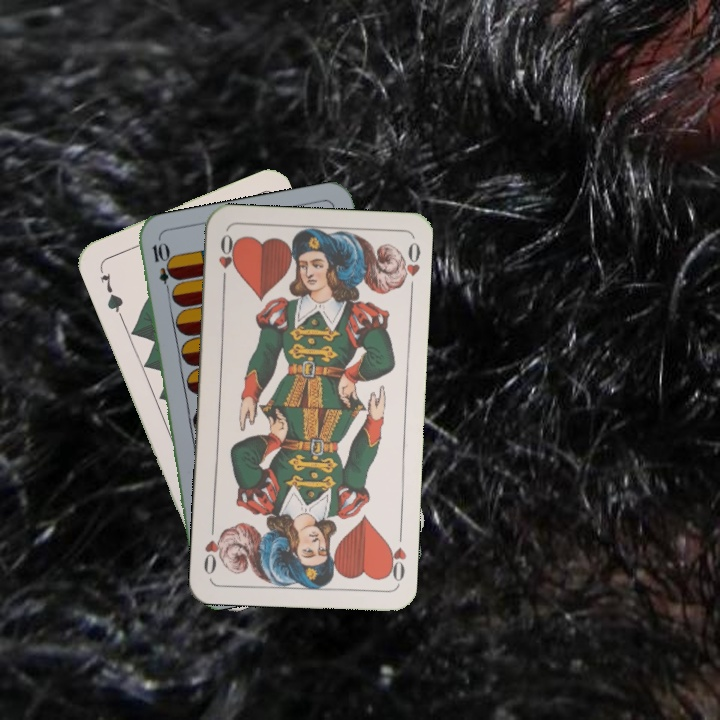E10: (148, 238, 175, 298)
G7: (95, 262, 126, 319)
HO: (382, 527, 409, 586), (214, 230, 238, 288)
